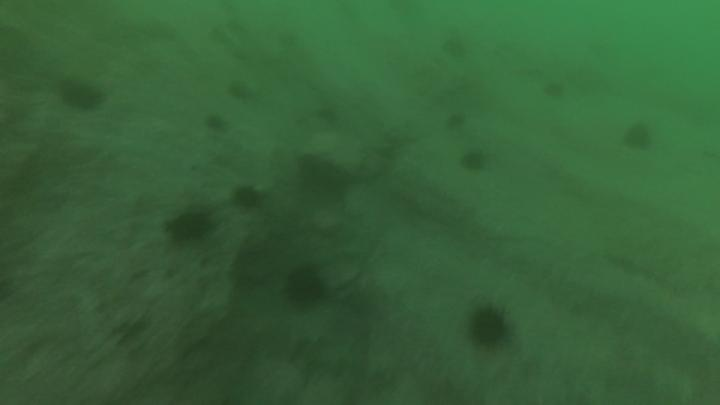echinus: (465, 299, 514, 352), (282, 263, 328, 316), (234, 244, 282, 289), (57, 75, 108, 117), (168, 209, 217, 247), (623, 120, 654, 154), (440, 33, 472, 64), (457, 146, 490, 175), (233, 182, 260, 213), (225, 80, 253, 103), (203, 111, 229, 135), (444, 112, 470, 135), (541, 79, 565, 101)
